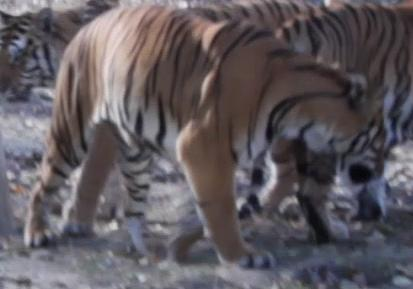tiger: (25, 0, 412, 264)
